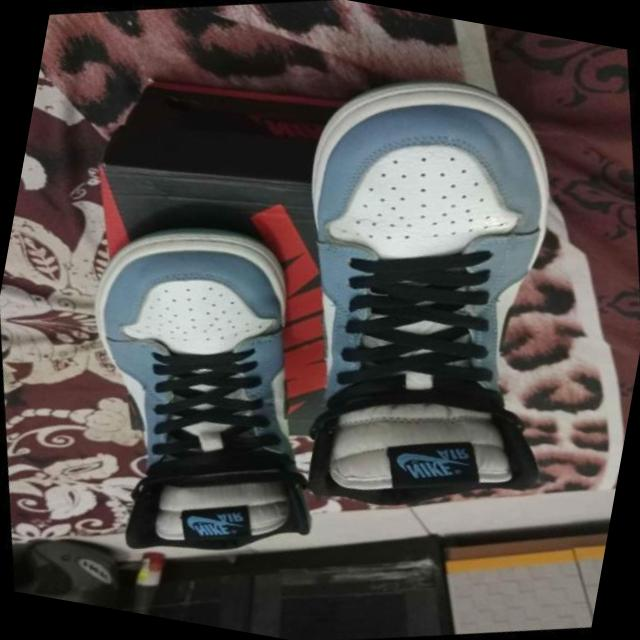nike_fake_jordan: (217, 31, 640, 562), (25, 184, 362, 596)
